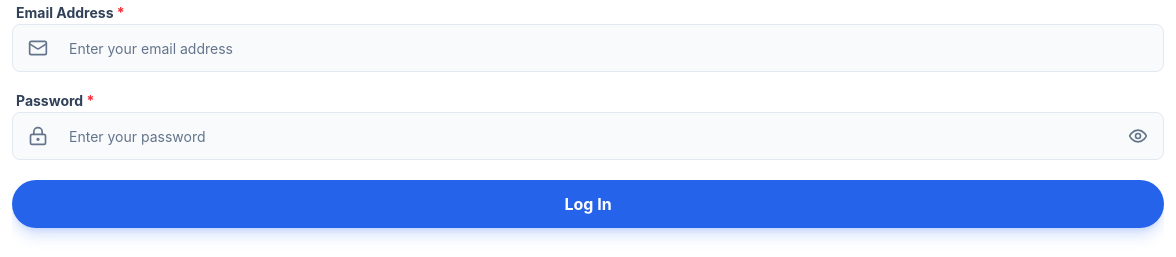
Test: LoginForm Component › keeps visibility control working after blur and refocus
In the password field with placeholder "Enter your password": (588, 136) [12,112,1164,160], type "secret123"
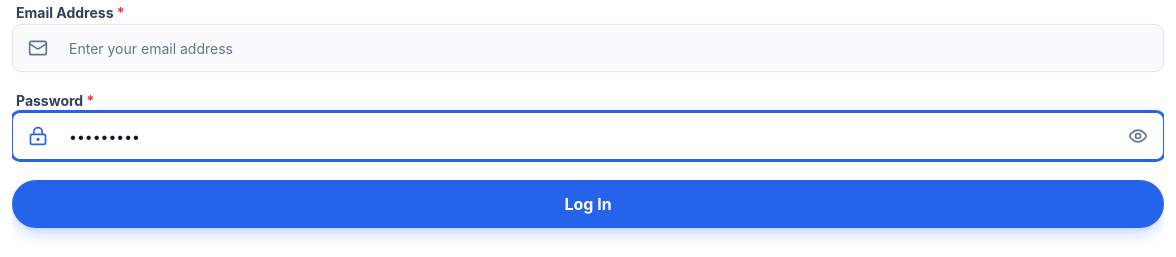
Click the element showing "Email Address * Password * Log In": (588, 114) [12,0,1164,228]
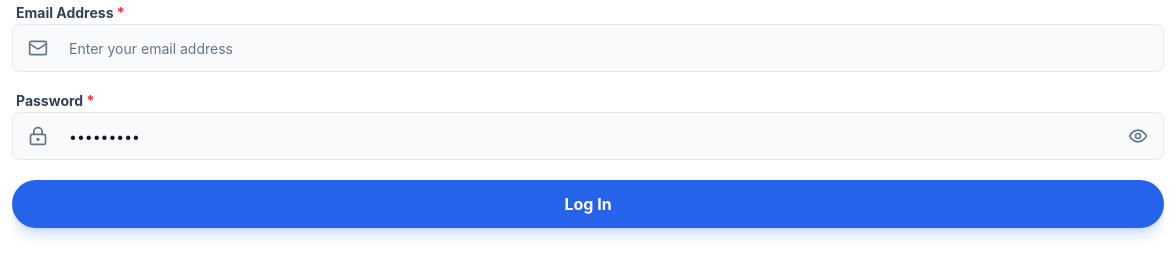
Click the password field with placeholder "Enter your password": (588, 136) [12,112,1164,160]
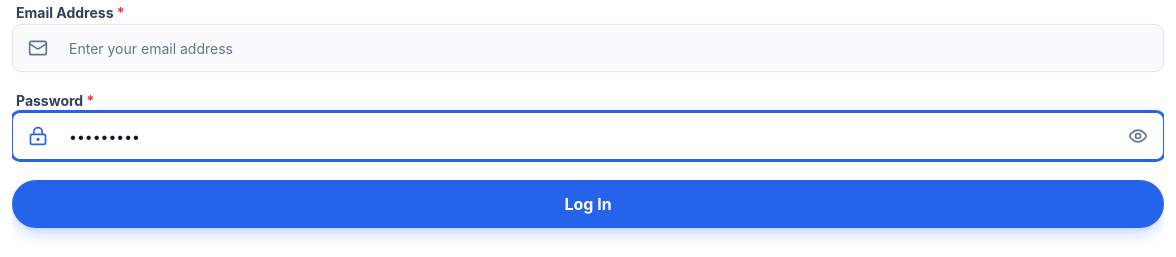
Click the button named "show password": (1138, 136) [1128,126,1148,146]
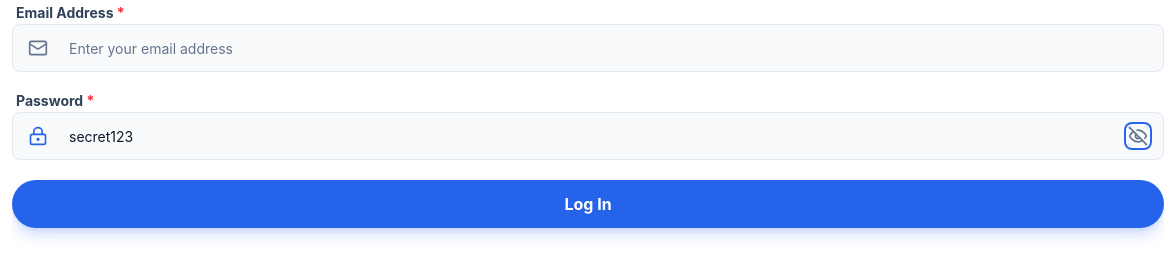
Expected: the field with placeholder "Enter your password" shows its text, [12,112,1164,160]
Click the button named "hide password": (1138, 136) [1128,126,1148,146]
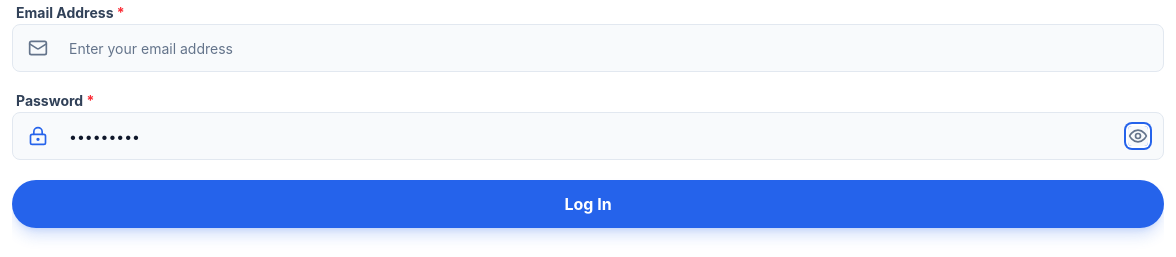
Expected: the password field with placeholder "Enter your password" hides its text, [12,112,1164,160]
